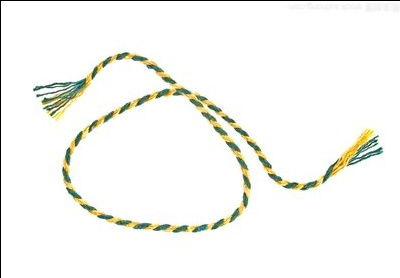9/可回收垃圾/绳子: (33, 51, 384, 233)
